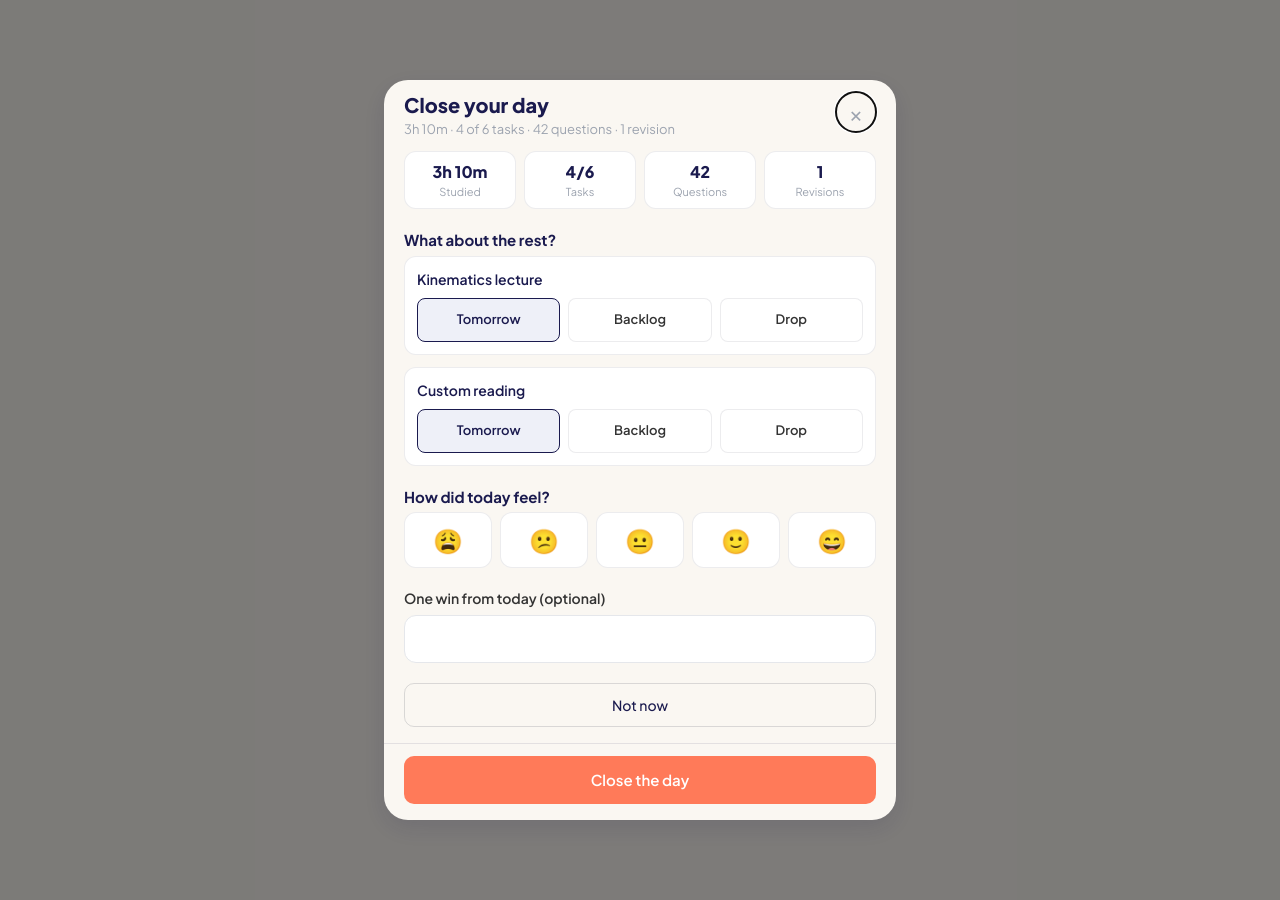
Day Close › shows the server's message when closing fails and keeps the sheet open
Click the button with test id "day-close-submit" at (640, 780), box [404,756,876,804]
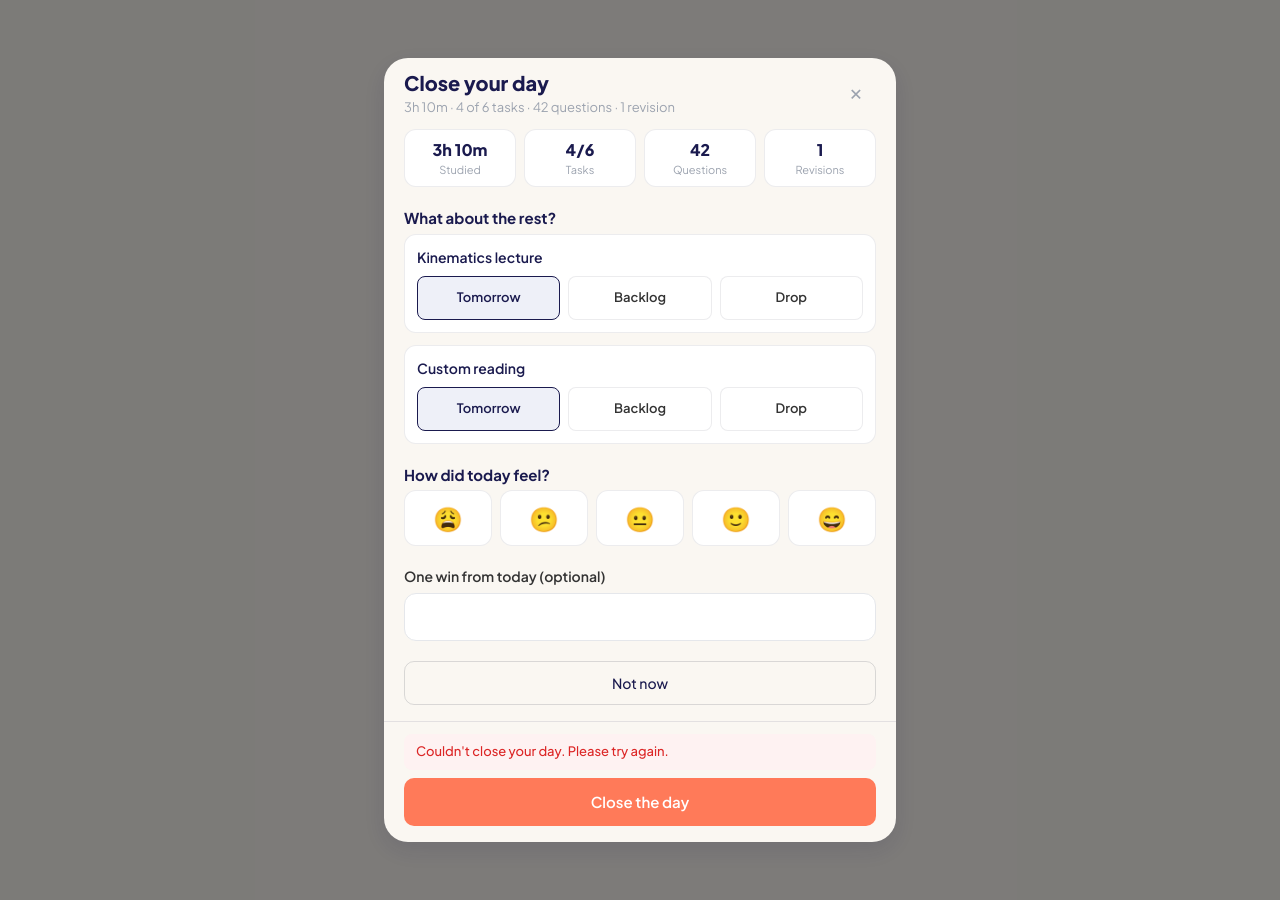
Expected: the dialog with test id "day-close-flow" is shown, [384,58,896,842]
Now the message shows "Couldn't close your day", box [416,743,669,759]
